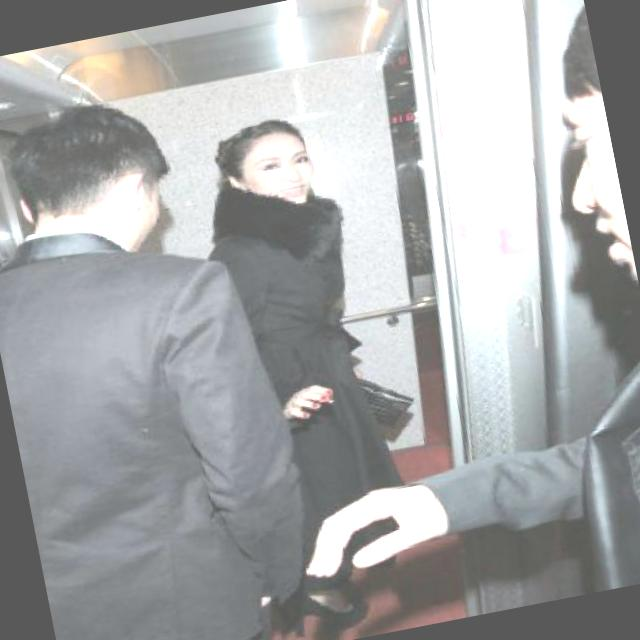Person: (165, 100, 424, 604)
